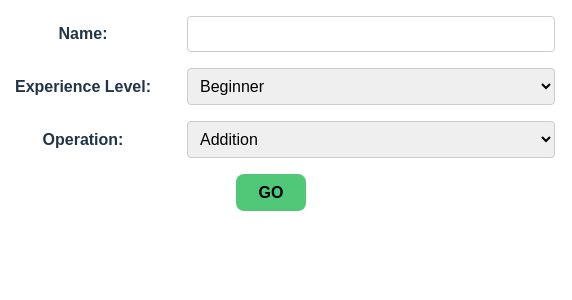
Test case: UserForm — profanity filter › shows an error when a bad word is typed
Type "shit" into the field labelled "Name:" at (371, 34), box [187,16,555,52]
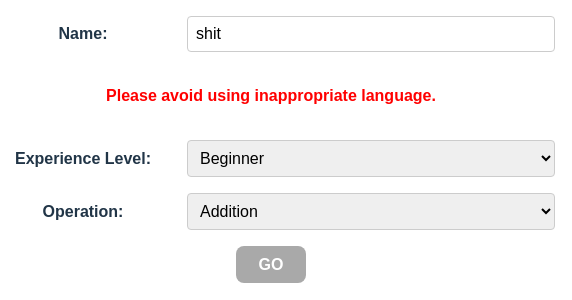
expect the text "Please avoid using inappropriate language." is shown: met, box [106,84,436,108]
